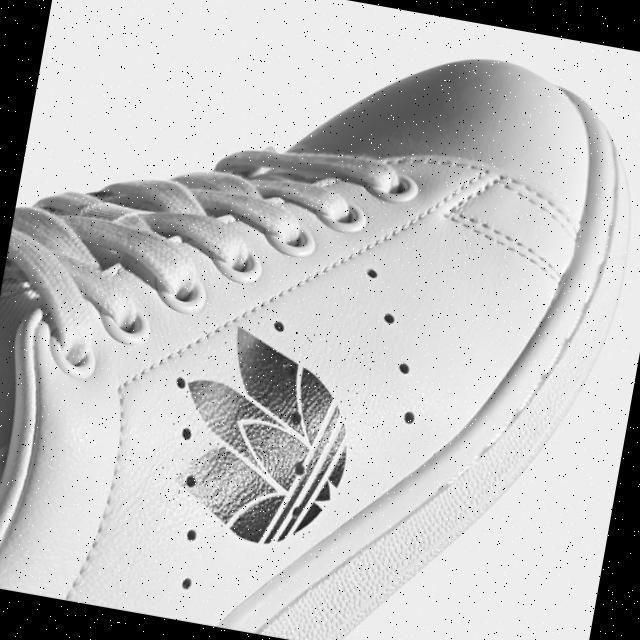Adidas: (149, 310, 377, 562)
